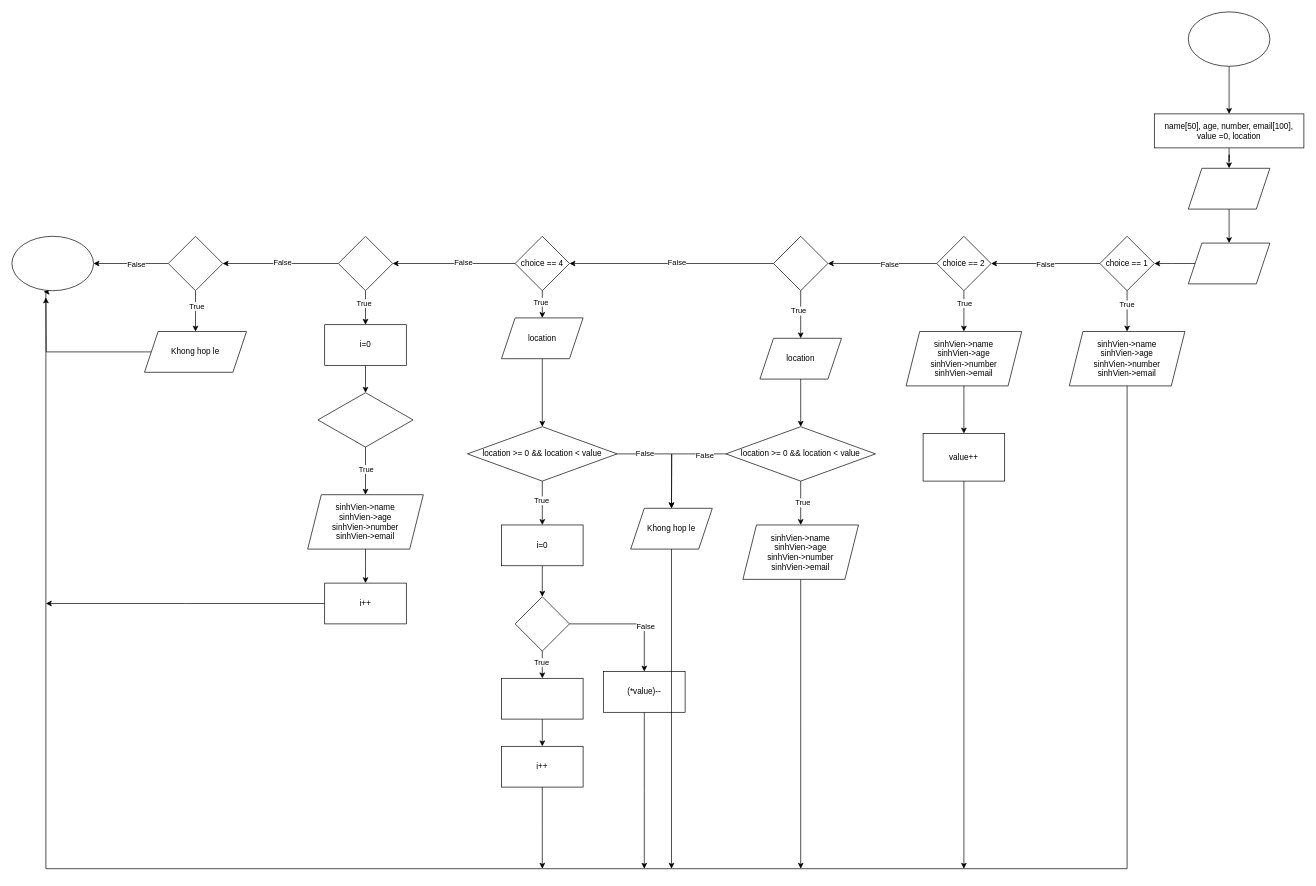
The diagram is 1316 pixels wide and 886 high, and some of its shapes have lost their labels. Each missing label, with the centre of its shape:
"choice" belongs at (1229,263).
"choice == 3" belongs at (800,263).
"choice == 5" belongs at (365,263).
"choice == 6" belongs at (195,263).
"dsSinhVien[i] = dsSinhVien[i + 1]" belongs at (542,698).
"End" belongs at (52,263).
"i<*value-1" belongs at (542,623).
"i<value" belongs at (365,419).
"MENU" belongs at (1229,188).
"Start" belongs at (1229,38).
